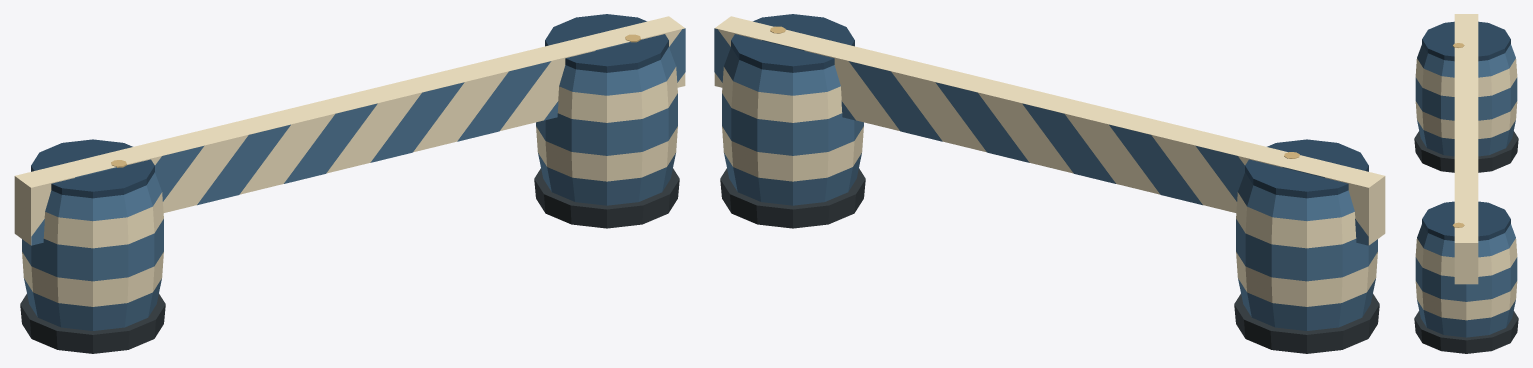
File: police-barrier.glb
3 views of the same model, side by side, from view 1: azimuth 30°, elevation 25°; view 2: azimuth 150°, elevation 25°; view 3: azimuth 270°, elevation 25° (orthographic). The views are drawn at different scales.
Visible parts, largest first — view 1: police-barrier; view 2: police-barrier; view 3: police-barrier.
Boxes of the visible parts, x1,y1,x2,y2 form: police-barrier: [14, 14, 685, 353]; police-barrier: [714, 14, 1385, 353]; police-barrier: [1414, 14, 1518, 353].
Size of the model in its own units: 4.15 by 0.968 by 0.8.
1 material, 1 textured.
